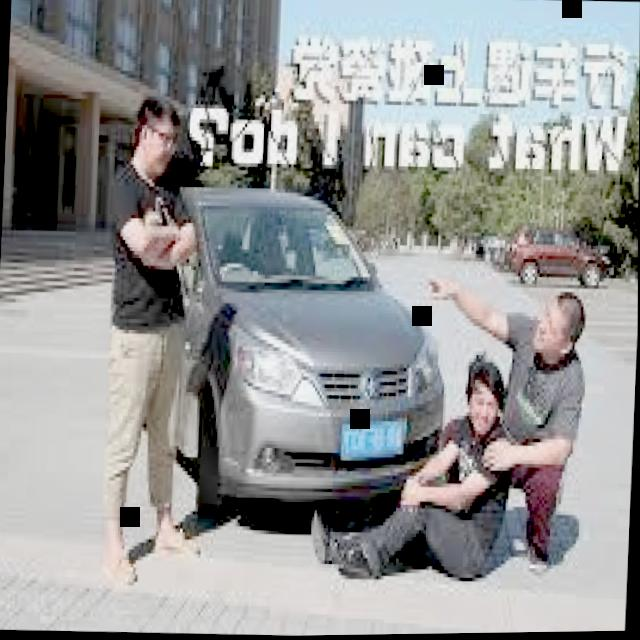Fall-Detected: (305, 343, 529, 582)
